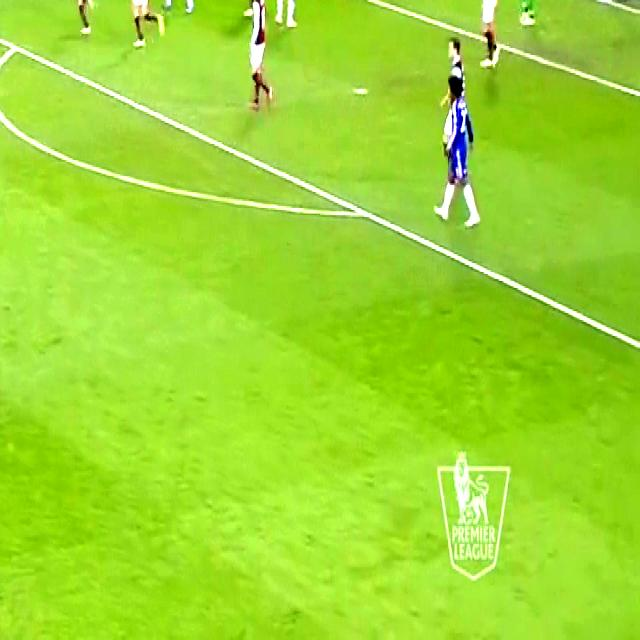goalkeeper: (515, 0, 550, 36)
soccer-player: (436, 70, 488, 232), (237, 0, 274, 119), (472, 0, 507, 78), (442, 31, 467, 128), (115, 0, 161, 52), (58, 0, 98, 36), (277, 0, 314, 30), (158, 0, 192, 23), (235, 0, 272, 4)
